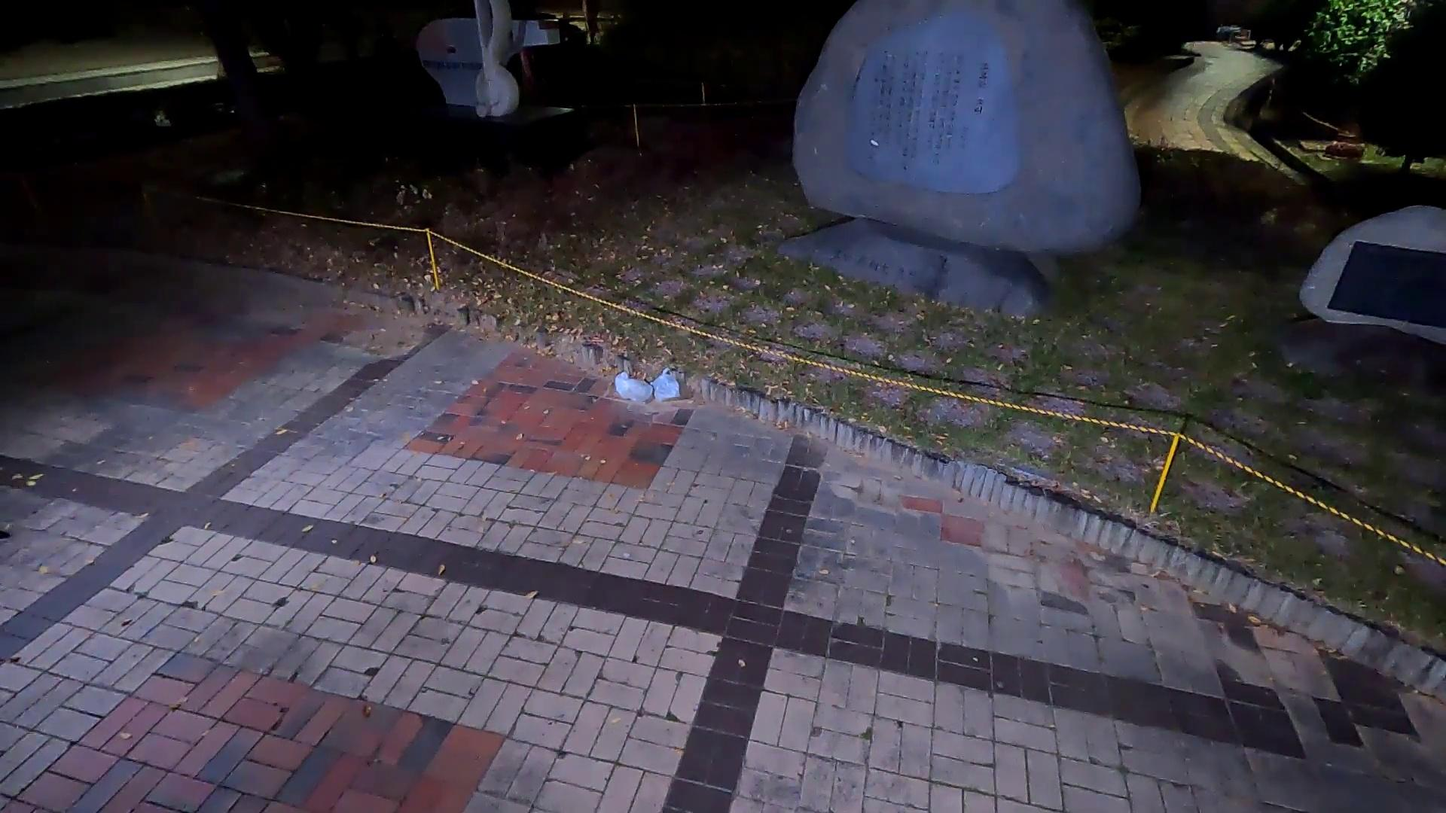trash: (611, 369, 655, 405), (651, 364, 681, 406)
